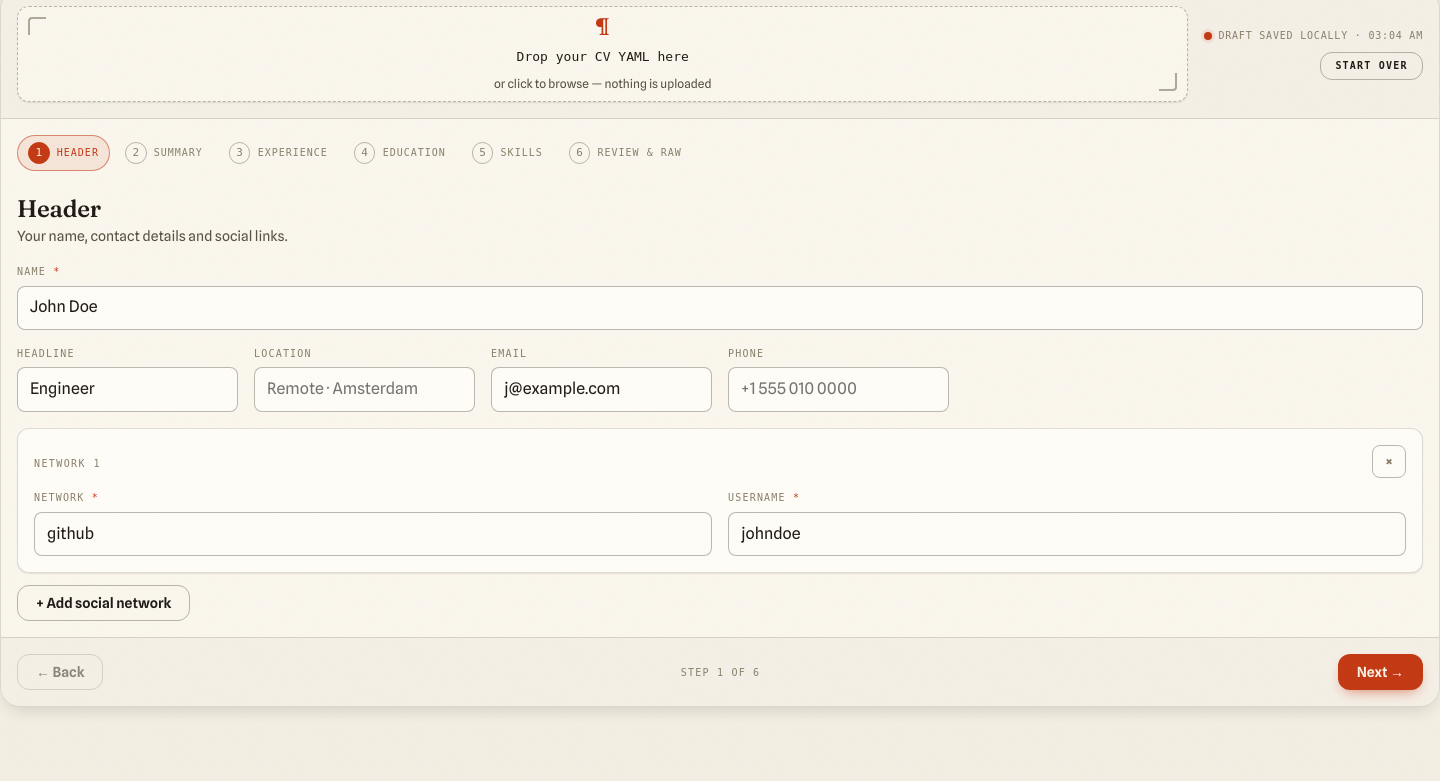
it: Wizard › experience rows gain a new blank entry with an inline required hint
Click the button "Next →" at [1380, 672], box [1338,654,1423,690]
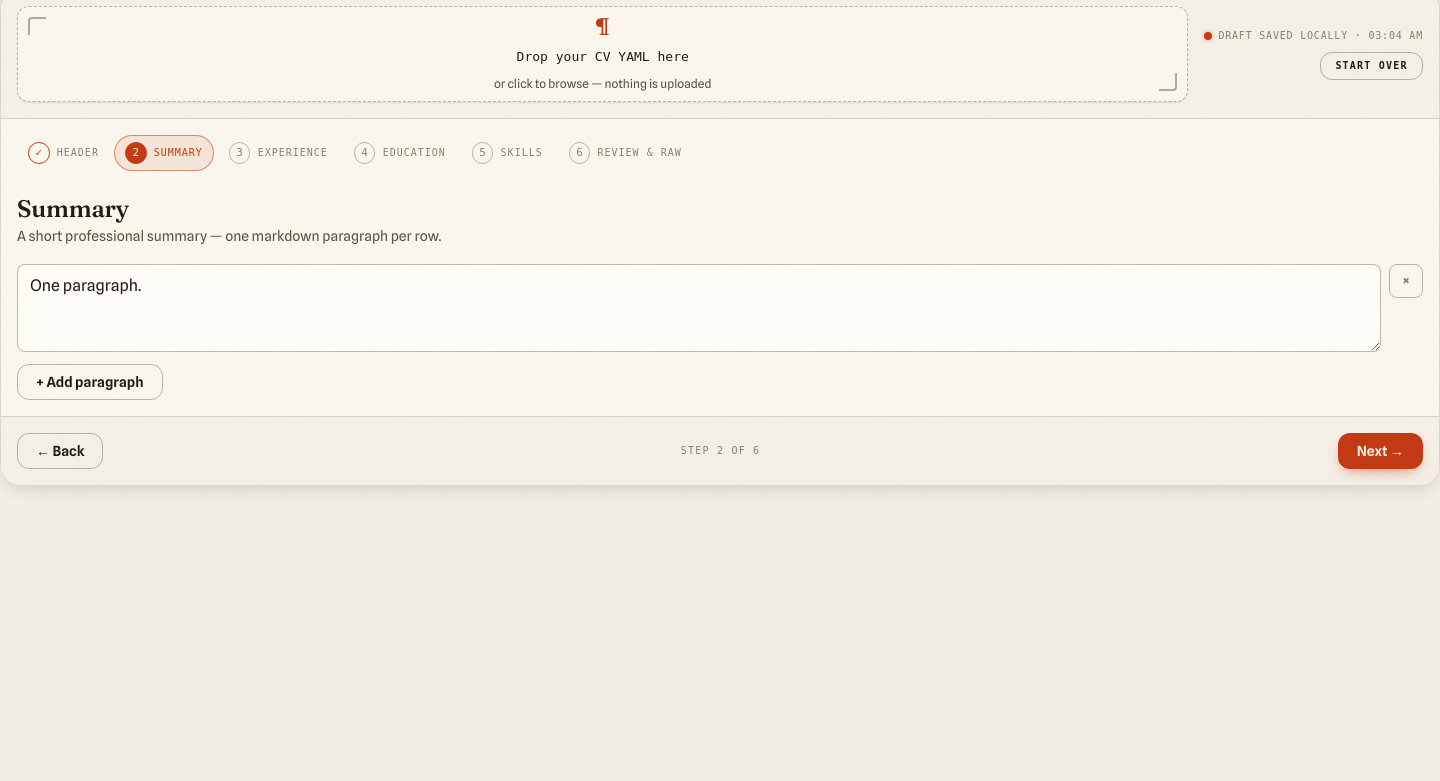
Click the button "Next →" at [1380, 451], box [1338,433,1423,469]
(page scrolled)
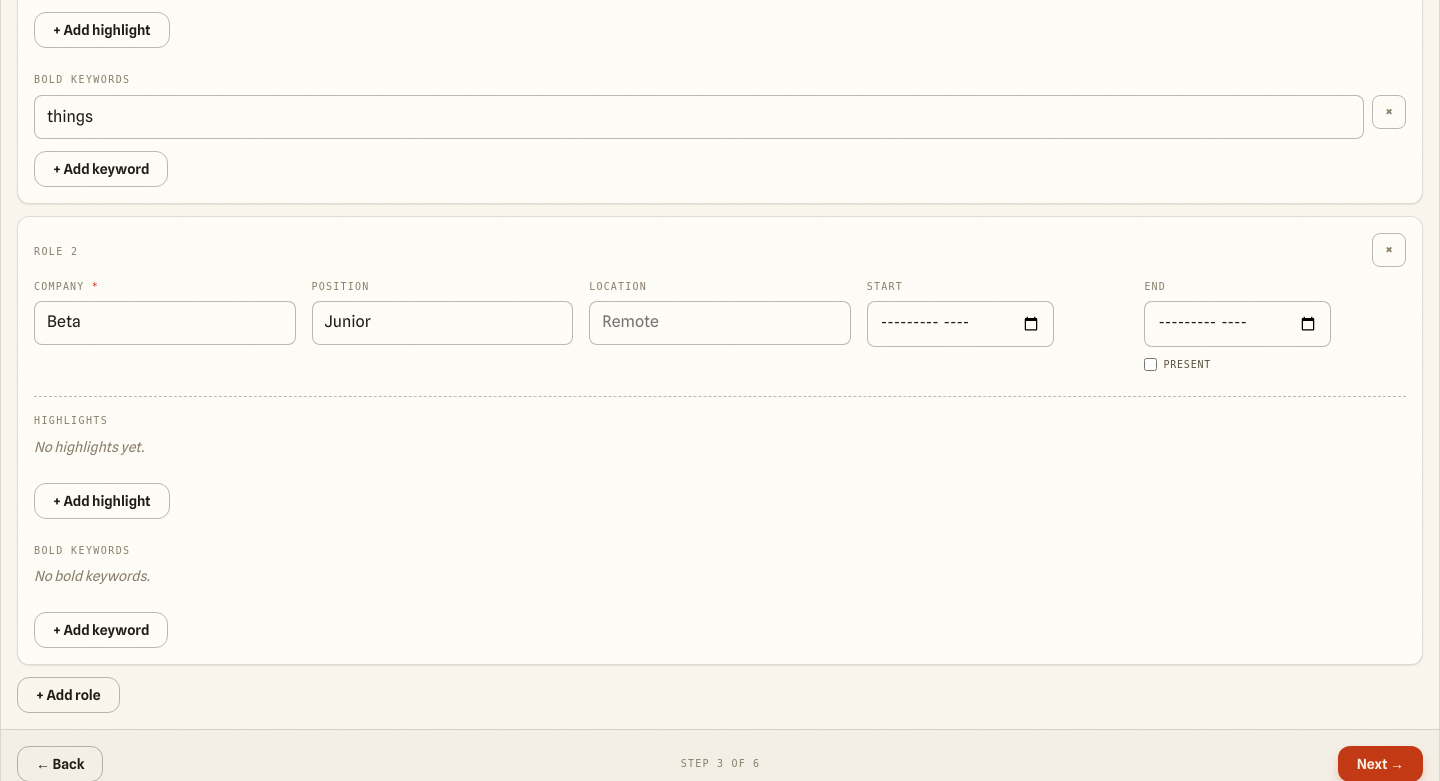
Click the button "+ Add role" at [68, 695], box [17,677,120,713]
(page scrolled)
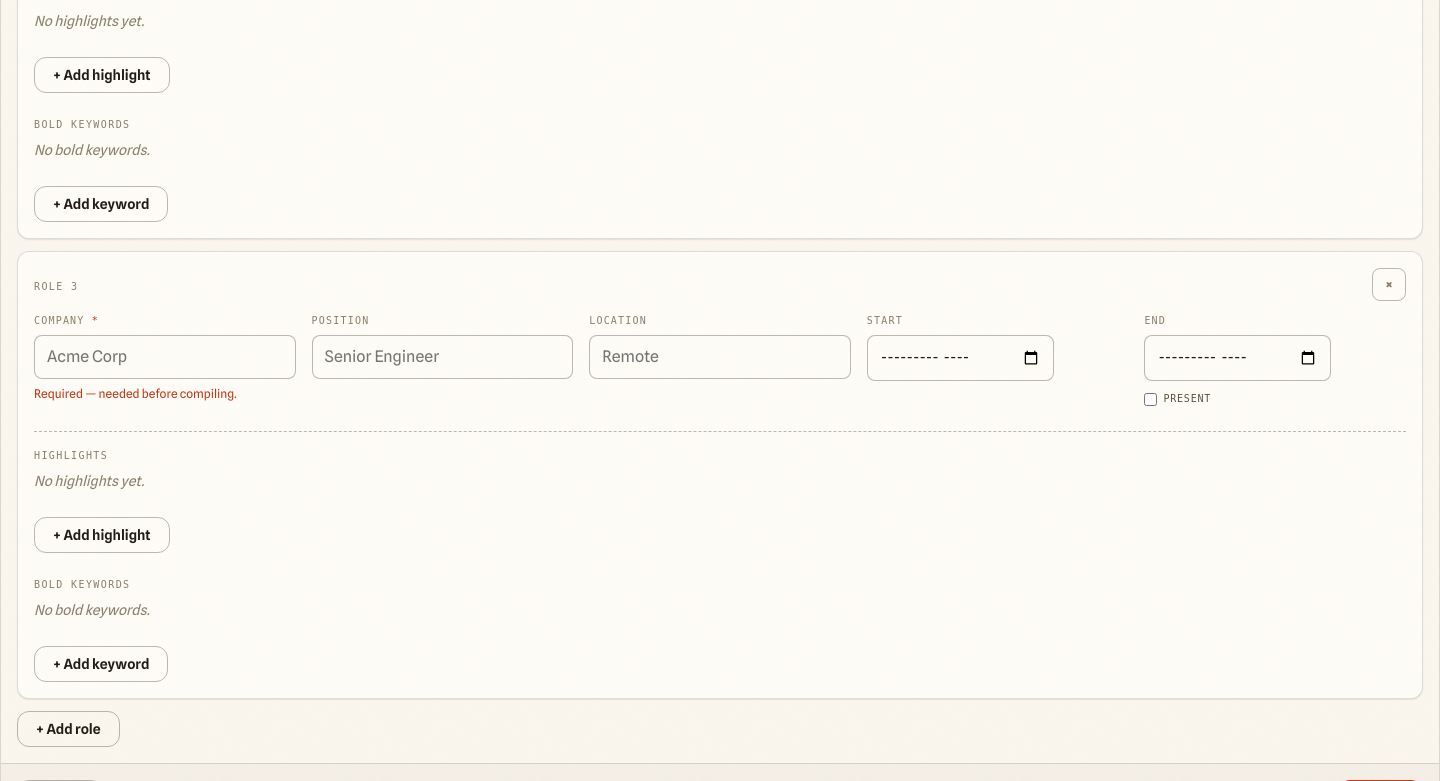
Check: the text "Role 3" is shown, box [34,279,78,294]
Check: the text "Required — needed before compiling." is shown, box [34,386,237,401]
